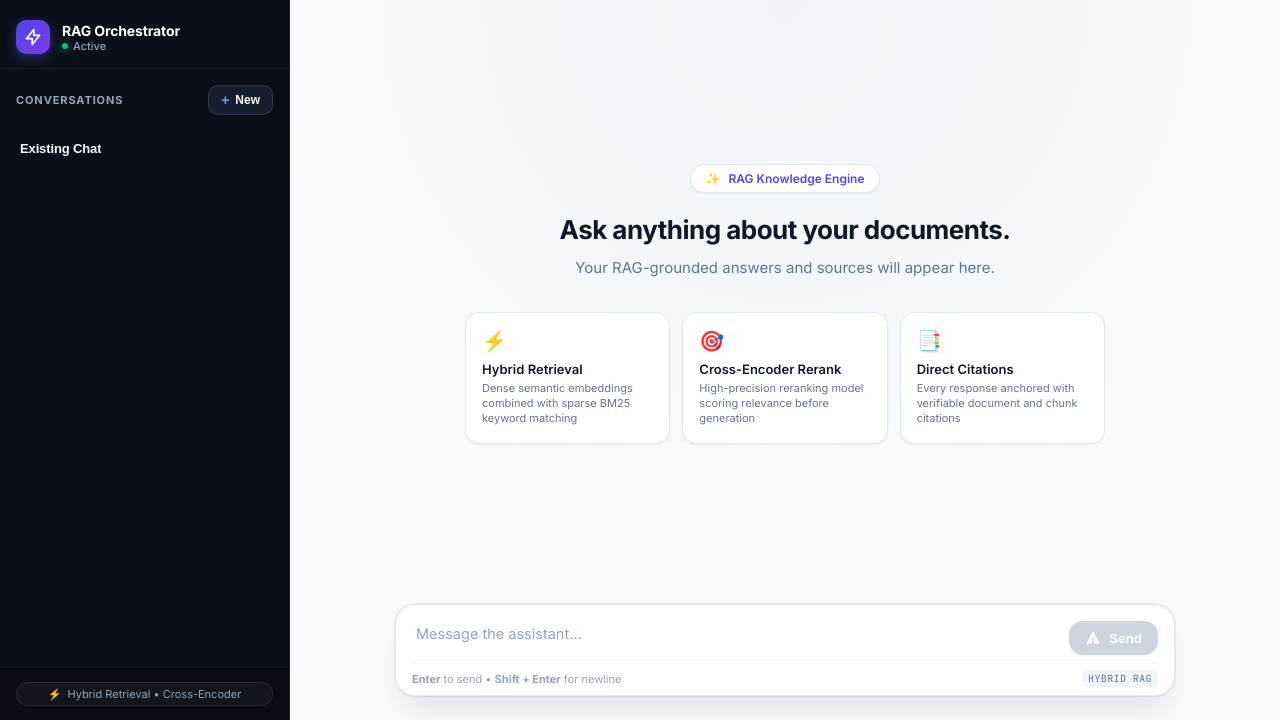
Test case: ChatPage Integration › loads transcript when a conversation is selected
Expected: the text "Existing Chat" is shown, x1=20 y1=141 x2=101 y2=156
Click the button "Existing Chat" at (128, 150), box x1=8 y1=131 x2=247 y2=170
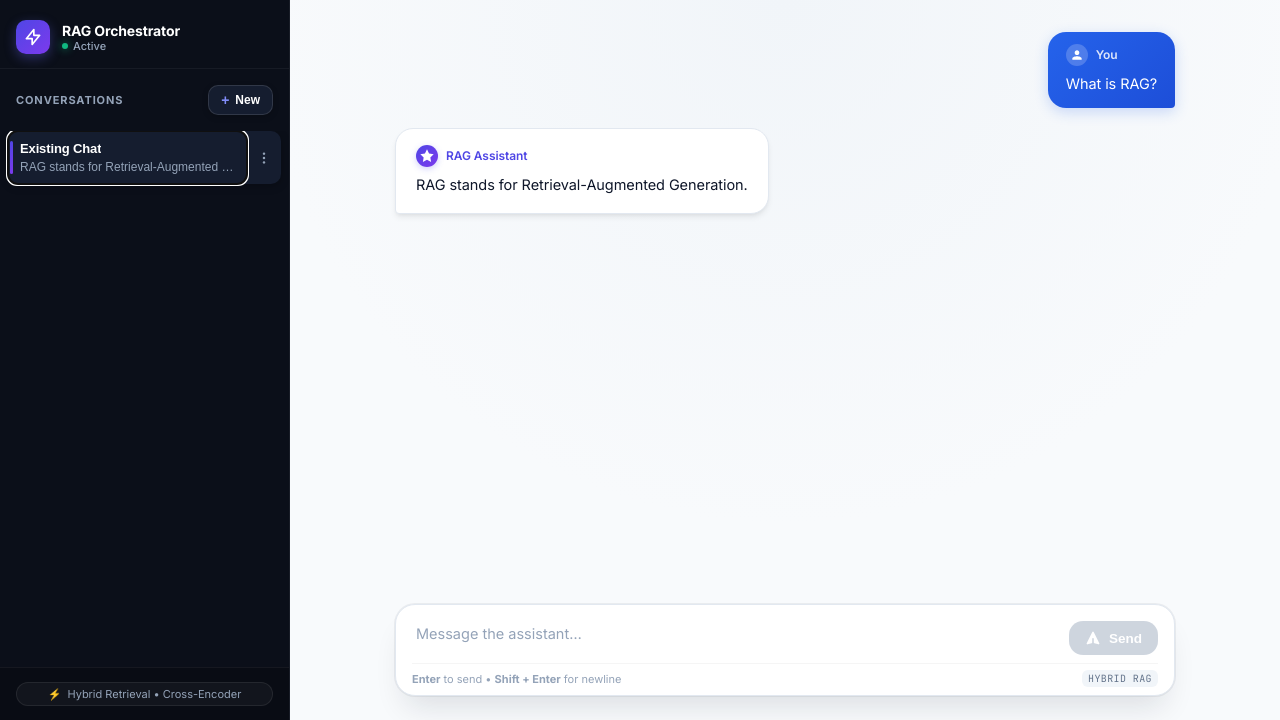
Result: the text "What is RAG?" is shown at x1=1066 y1=72 x2=1157 y2=96
Result: the text "RAG stands for Retrieval-Augmented Generation." below "RAG Assistant" is shown at x1=416 y1=176 x2=748 y2=193
